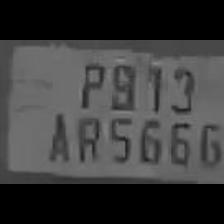1: (138, 60, 166, 112)
3: (166, 60, 196, 114)
5: (102, 111, 134, 165)
6: (163, 116, 192, 168), (134, 116, 162, 166), (195, 118, 221, 170)
A: (41, 106, 72, 166)
B: (106, 58, 138, 110)
P: (73, 57, 105, 109)
R: (72, 111, 100, 165)
